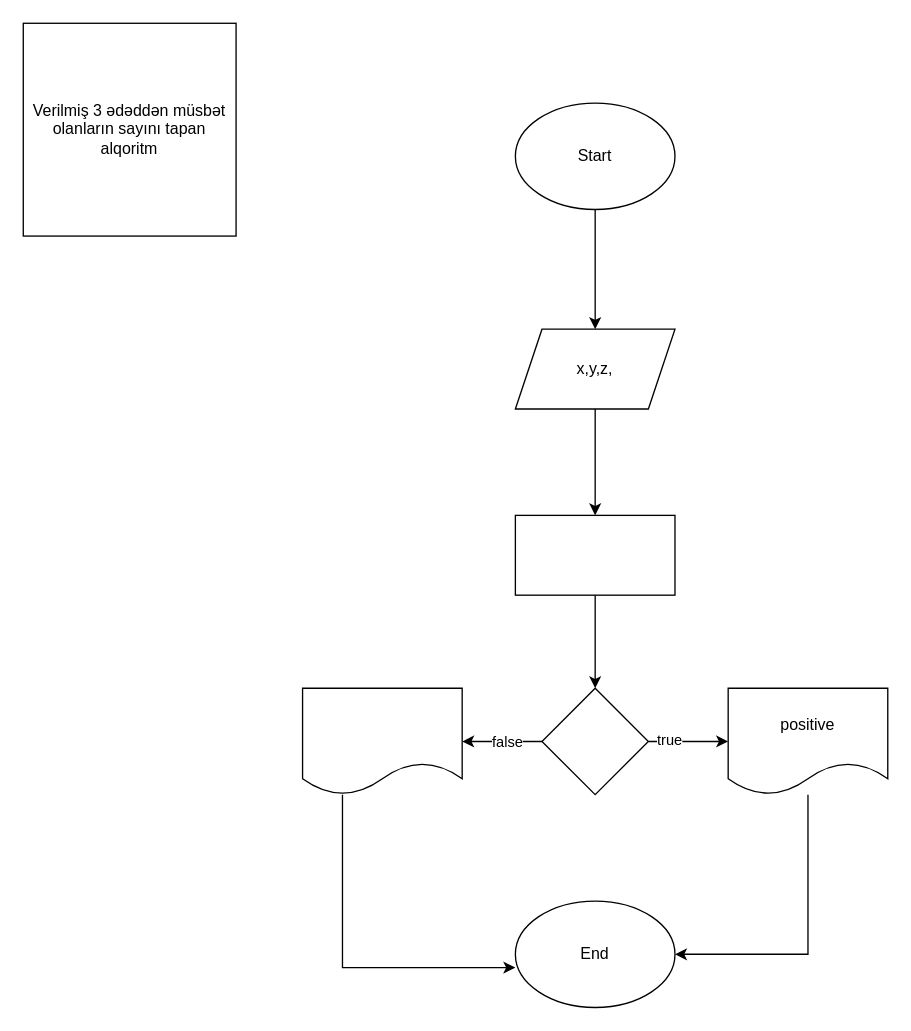
This 911x1031 diagram has some shape labels left out. Here are the shapes that lost their labels. From the top down, the box of each, then its label:
(514, 514, 675, 595): positive count
(301, 687, 462, 795): negative
(541, 687, 648, 795): a,b,c >0
